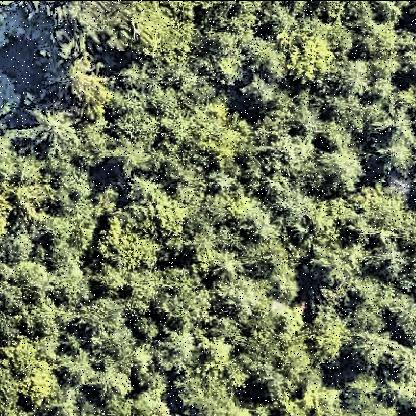tree-top: (312, 131, 373, 202), (3, 146, 51, 234), (2, 339, 56, 415), (50, 56, 114, 116), (133, 1, 199, 57), (54, 3, 130, 51), (177, 366, 247, 416), (81, 290, 137, 348), (99, 222, 163, 270), (192, 108, 253, 158), (308, 239, 372, 285), (308, 307, 354, 367), (284, 33, 334, 84), (24, 105, 75, 155), (115, 101, 165, 147), (383, 112, 416, 178), (86, 358, 134, 402), (267, 259, 303, 311), (218, 281, 260, 325), (165, 324, 201, 372), (334, 57, 376, 97), (376, 238, 410, 282), (357, 325, 392, 366), (242, 75, 280, 111), (93, 181, 123, 224), (131, 312, 169, 344), (129, 171, 165, 203), (211, 249, 245, 282), (205, 164, 239, 194), (119, 59, 145, 89)
